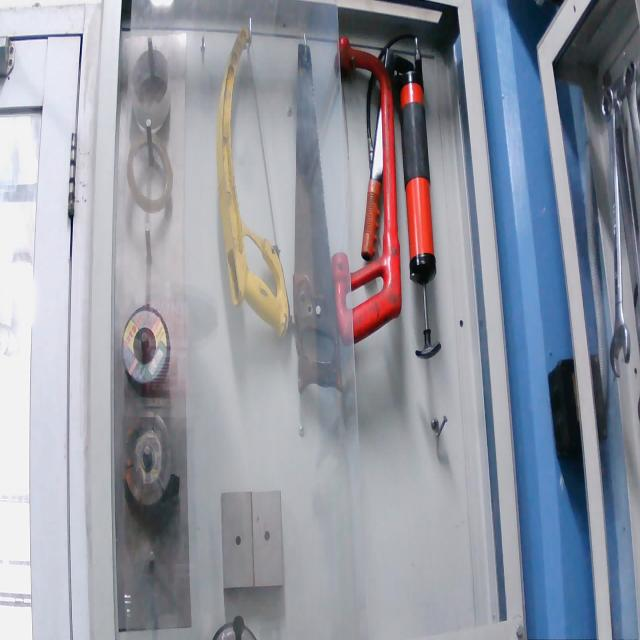gergaji_besi: (330, 34, 402, 348)
